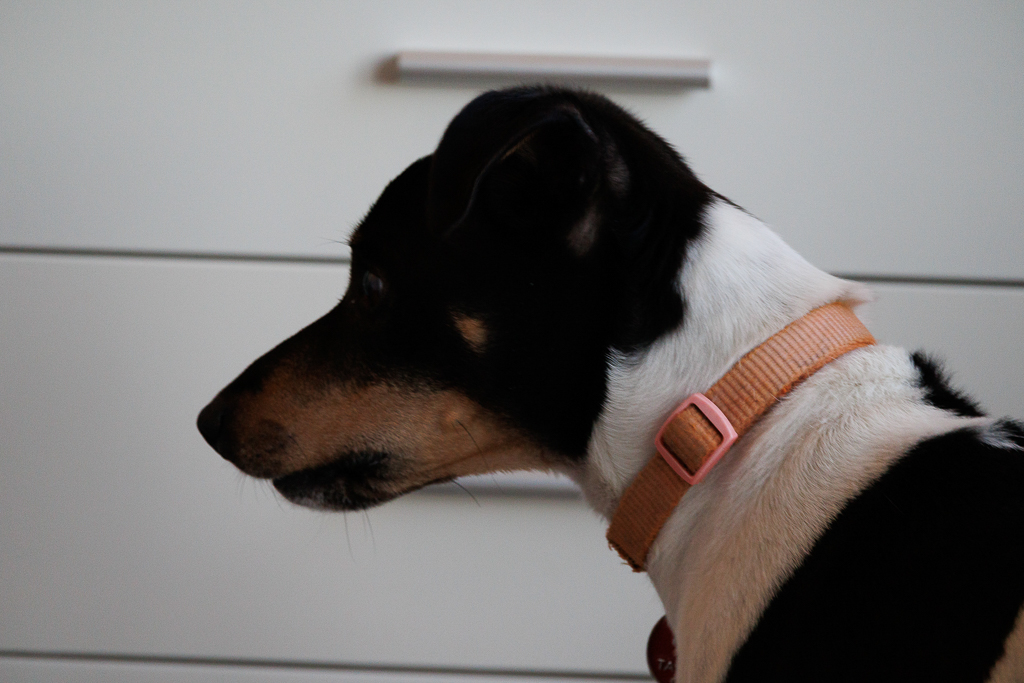Dog: (180, 80, 1023, 682)
